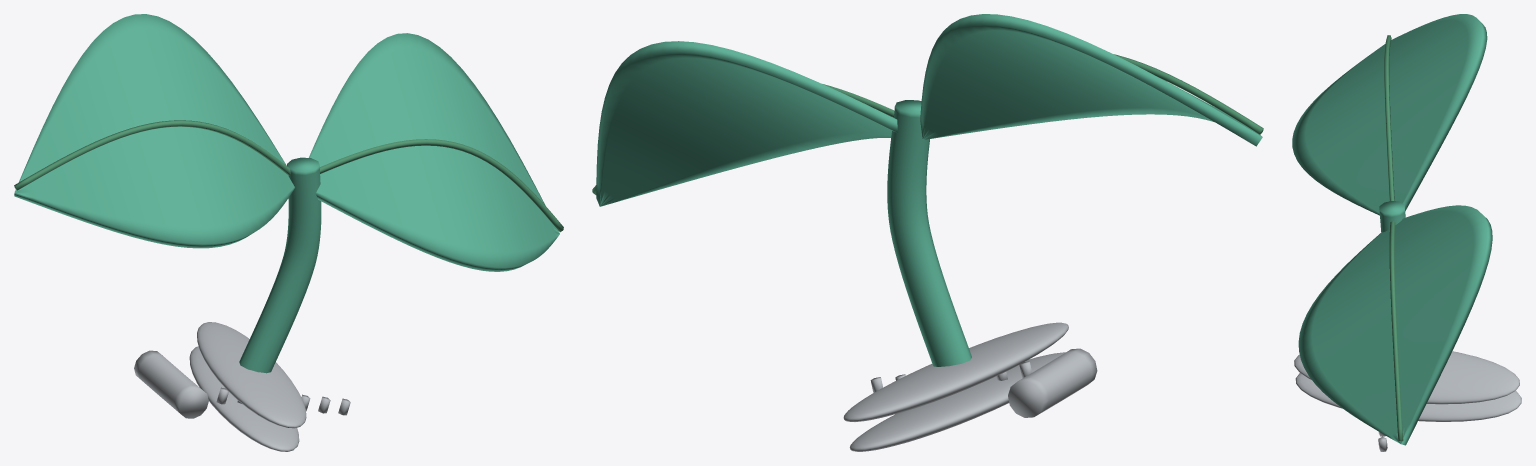
The model's file is Masculine-buzz-sprout.glb.
3 renders of one model, left to right at view 1: azimuth 30°, elevation 25°; view 2: azimuth 150°, elevation 25°; view 3: azimuth 270°, elevation 25°, orthographic. The views are drawn at different scales.
Parts seen in each view (by area): view 1: 226 extra / Accessory / mint226, 226 extra / Sprout / clip silver235, 226 extra / Sprout / leaf vein235; view 2: 226 extra / Accessory / mint226, 226 extra / Sprout / clip silver235, 226 extra / Sprout / leaf vein235; view 3: 226 extra / Accessory / mint226, 226 extra / Sprout / clip silver235, 226 extra / Sprout / leaf vein235.
Boxes of the visible parts, x1,y1,x2,y2 form: 226 extra / Accessory / mint226: (14,14,559,373); 226 extra / Sprout / clip silver235: (134,322,350,451); 226 extra / Sprout / leaf vein235: (14,120,563,232); 226 extra / Accessory / mint226: (596,14,1262,366); 226 extra / Sprout / clip silver235: (843,322,1097,451); 226 extra / Sprout / leaf vein235: (592,54,1263,194); 226 extra / Accessory / mint226: (1292,14,1492,445); 226 extra / Sprout / clip silver235: (1294,351,1521,451); 226 extra / Sprout / leaf vein235: (1384,35,1403,441).
Bounding box in the file's own units: 0.2154 × 0.1475 × 0.086.
